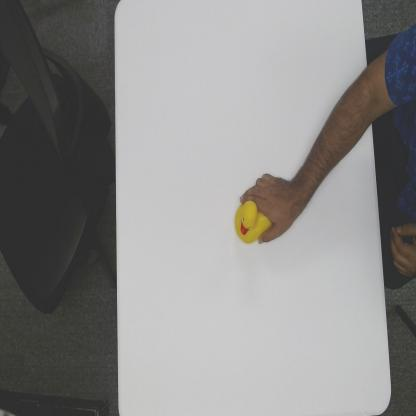Arm: (289, 65, 376, 214)
Duck: (233, 196, 273, 247)
Hand: (239, 170, 298, 244)
